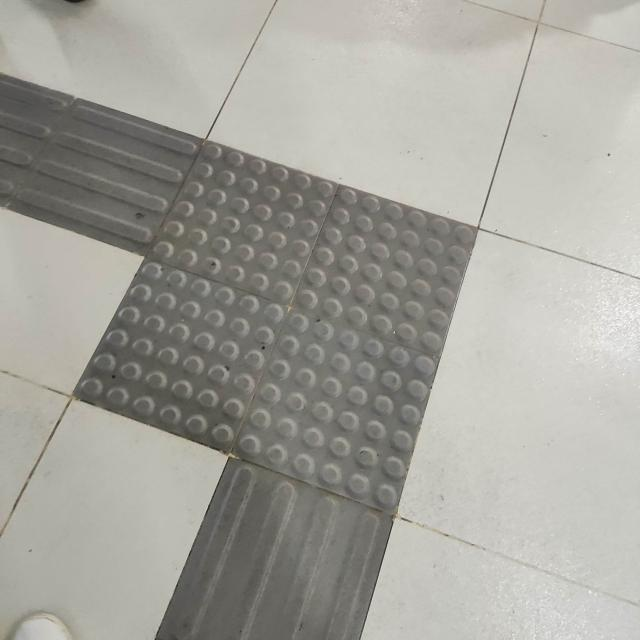kiri: (0, 60, 506, 628)
